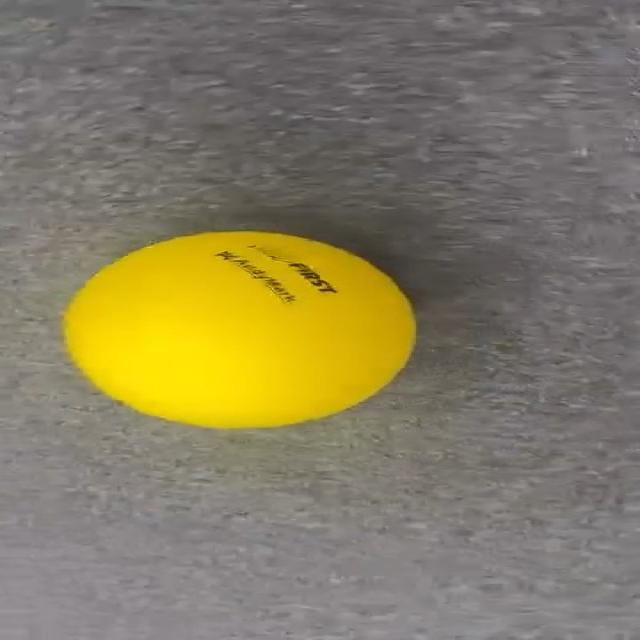Fuels: (66, 232, 411, 422)
